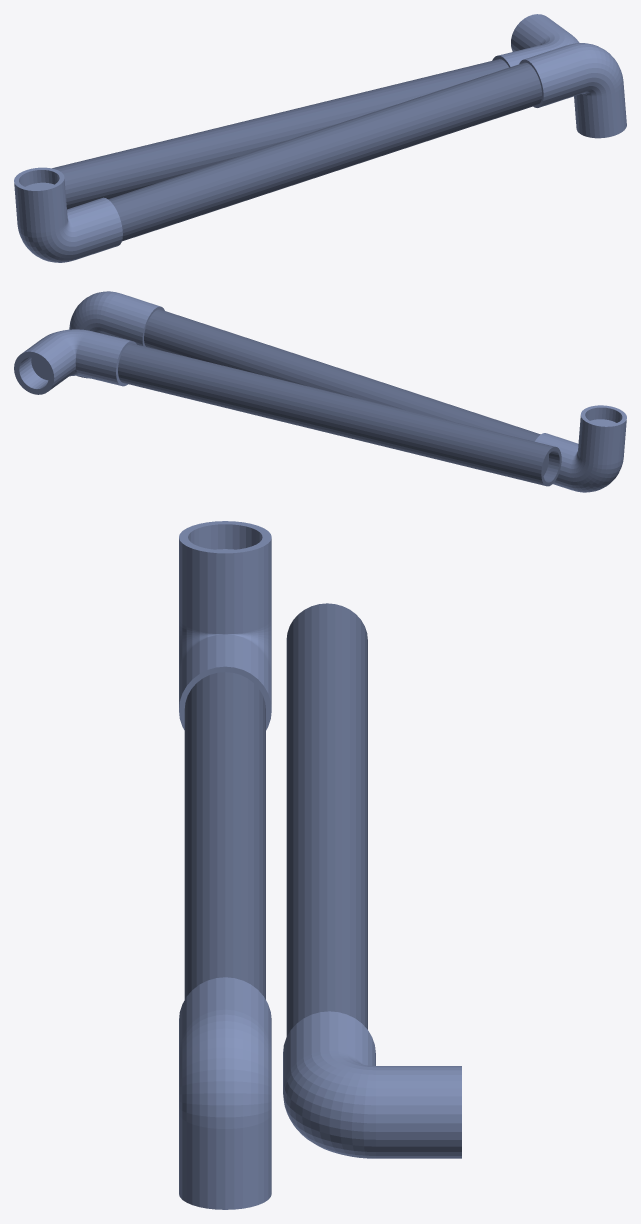
File: Parallon01.fbx
3 renders of one model, top to bottom at view 1: azimuth 30°, elevation 25°; view 2: azimuth 150°, elevation 25°; view 3: azimuth 270°, elevation 25°, orthographic. The views are drawn at different scales.
Parts seen in each view (by area): view 1: Cylinder; view 2: Cylinder; view 3: Cylinder.
Boxes of the visible parts, x1=… form: Cylinder: x1=14, y1=14, x2=626, y2=262; Cylinder: x1=14, y1=291, x2=626, y2=492; Cylinder: x1=179, y1=521, x2=461, y2=1209.
Size of the model in its own units: 6074 by 852 by 1343.
